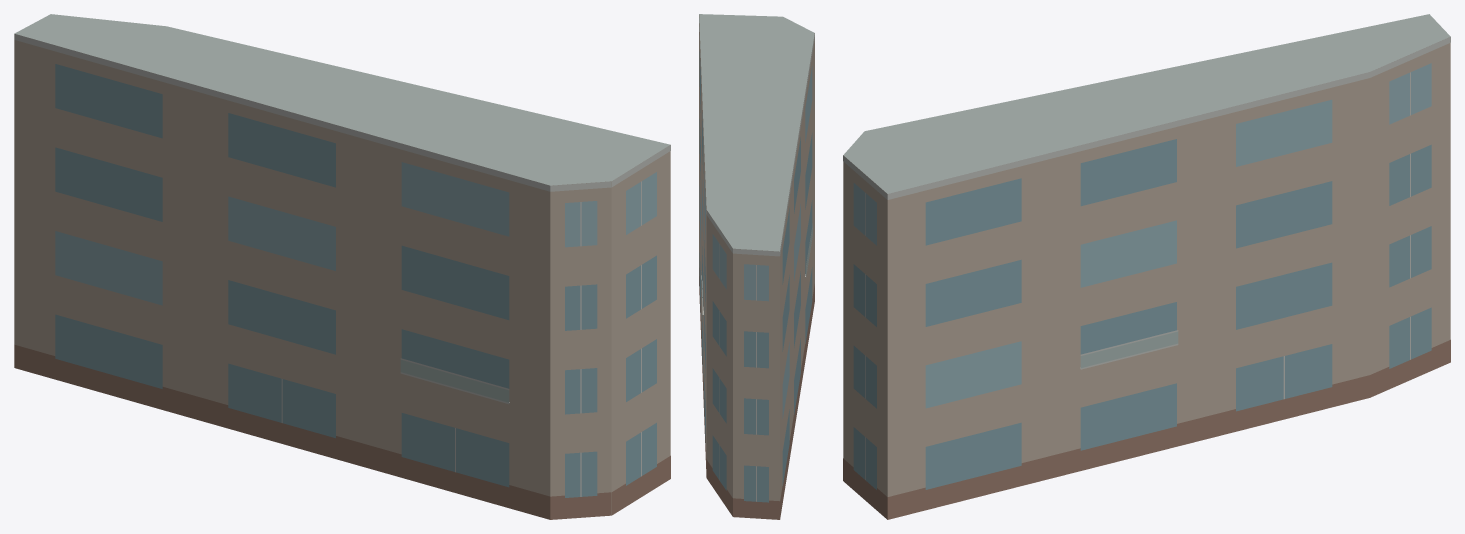
The model's file is survey-upis-32730437.glb.
3 renders of one model, left to right at view 1: azimuth 30°, elevation 25°; view 2: azimuth 150°, elevation 25°; view 3: azimuth 270°, elevation 25°, orthographic. The views are drawn at different scales.
Parts seen in each view (by area): view 1: survey-upis-32730437.tmp; view 2: survey-upis-32730437.tmp; view 3: survey-upis-32730437.tmp.
Part boxes in pixels (x1=…): survey-upis-32730437.tmp: x1=14, y1=14, x2=670, y2=519; survey-upis-32730437.tmp: x1=699, y1=14, x2=814, y2=519; survey-upis-32730437.tmp: x1=843, y1=14, x2=1450, y2=519.
Bounding box in the file's own units: 15.65 × 13.2 × 22.32.
